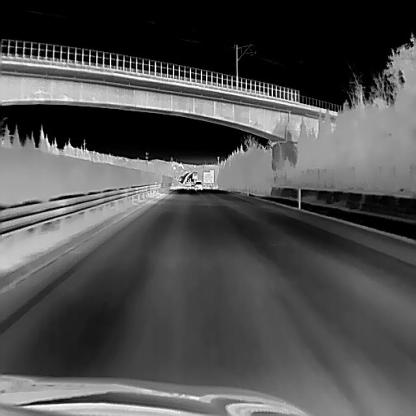car: (192, 180, 202, 190), (183, 180, 191, 190)
